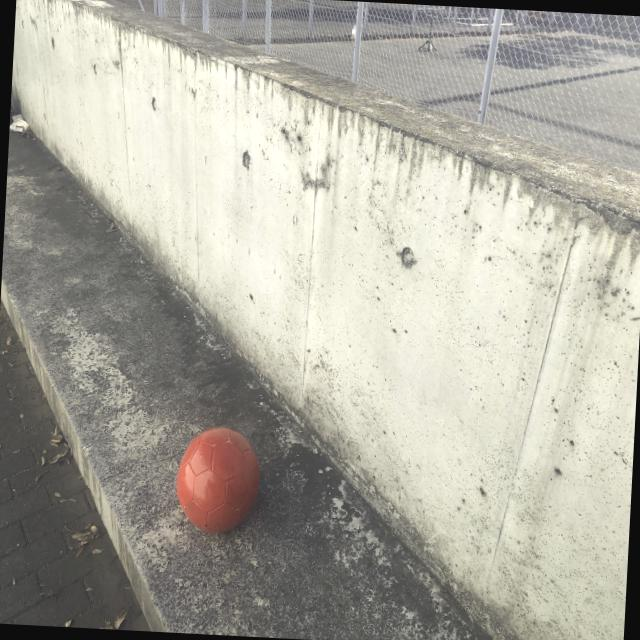red_ball: (173, 422, 266, 538)
